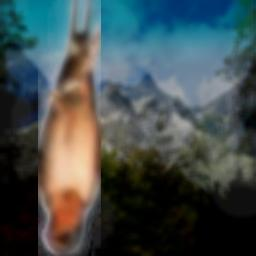Swallow: (38, 0, 101, 256)
